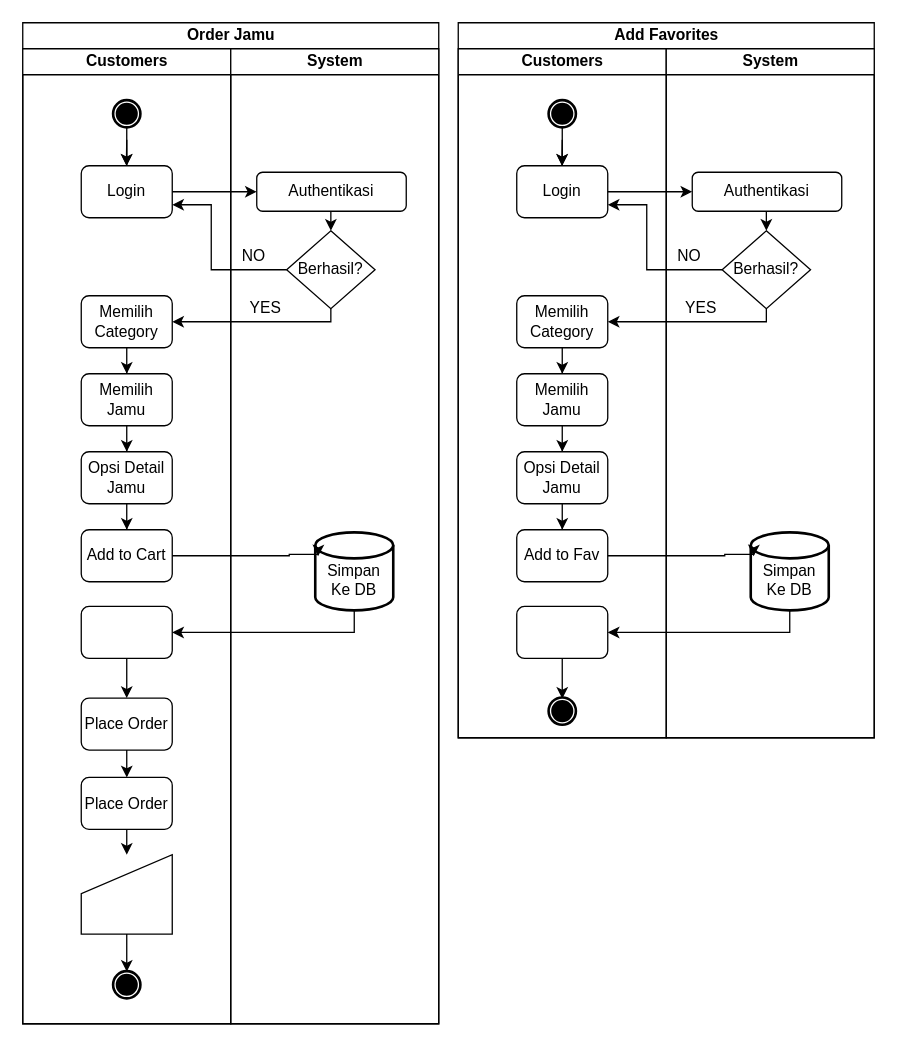
Some shapes in this 897 by 1047 pixel diagram are drawn without their labels. The centre of each missing label's shape, as x and y in pixels:
"Enter Address" goes at [126,893].
"View Cart" goes at [126,631].
"View Fav" goes at [561,631].
